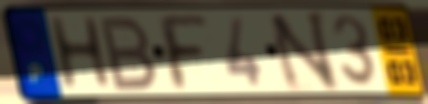3: (330, 12, 378, 89)
4: (223, 15, 266, 89)
B: (98, 13, 161, 93)
F: (152, 12, 212, 93)
H: (44, 14, 115, 94)
N: (265, 8, 341, 94)
